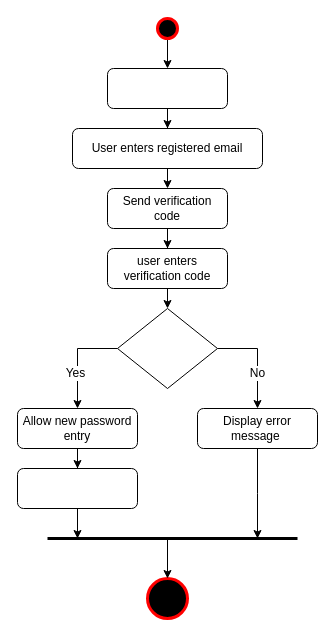
This 335x637 diagram has some shape labels left out. The box of each missing label's shape, as (x1, y1, x2, y2) in pixels:
Code valid ?: (116, 308, 218, 388)
Display Reset Password Form: (106, 68, 228, 108)
Update Password: (16, 468, 138, 508)
